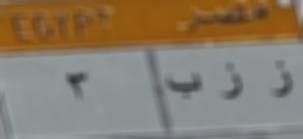3: (64, 67, 93, 106)
baa: (162, 70, 206, 101)
zay: (214, 60, 249, 106), (267, 59, 296, 102)
